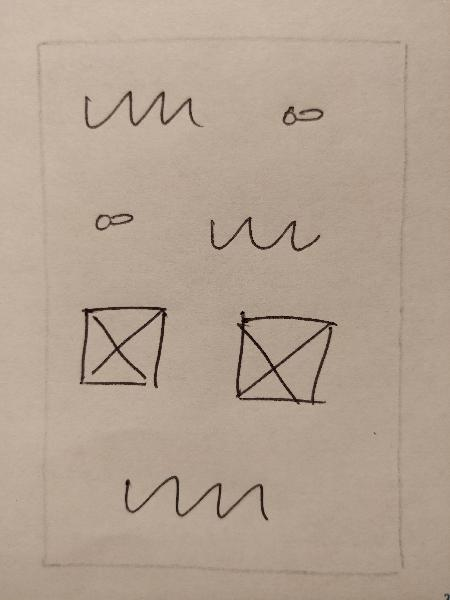image: (225, 306, 344, 412), (73, 297, 170, 395)
switch: (265, 94, 339, 138), (88, 197, 145, 243)
text: (113, 459, 272, 534), (77, 81, 214, 136), (201, 204, 325, 260)
